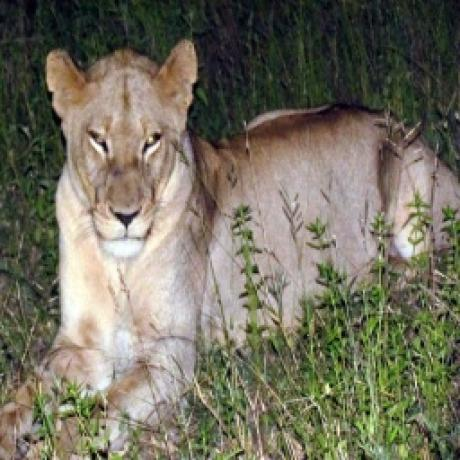Lion: (40, 39, 460, 428)
